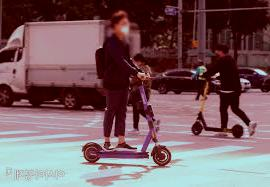nonhelmet: (80, 9, 172, 167), (191, 44, 258, 141)
